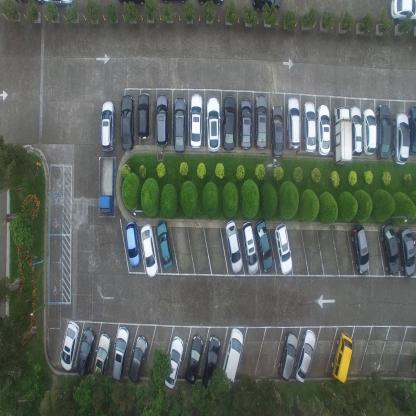car: (220, 326, 244, 387), (294, 327, 316, 382), (331, 329, 353, 382), (333, 104, 351, 166), (201, 336, 221, 390), (184, 333, 204, 386), (164, 336, 184, 389), (254, 218, 274, 270), (75, 326, 95, 378), (240, 219, 258, 276), (277, 330, 297, 381), (350, 223, 370, 274), (98, 155, 115, 215), (380, 220, 399, 273), (224, 220, 242, 275), (111, 326, 129, 381), (61, 319, 80, 371), (128, 335, 148, 384), (141, 223, 159, 277), (274, 222, 293, 273), (392, 112, 410, 164), (92, 332, 110, 384), (398, 226, 416, 277), (205, 97, 221, 153), (222, 94, 236, 152), (376, 102, 390, 160), (120, 93, 134, 151), (316, 103, 331, 156), (190, 94, 204, 150), (157, 220, 173, 269), (100, 100, 115, 152), (286, 96, 300, 150), (173, 95, 186, 152), (303, 101, 316, 154), (126, 220, 140, 269), (137, 91, 151, 140), (255, 95, 267, 151), (362, 107, 376, 155), (155, 92, 167, 148), (271, 104, 283, 159), (349, 104, 361, 158), (389, 0, 416, 23), (240, 98, 251, 152), (408, 105, 415, 156)
